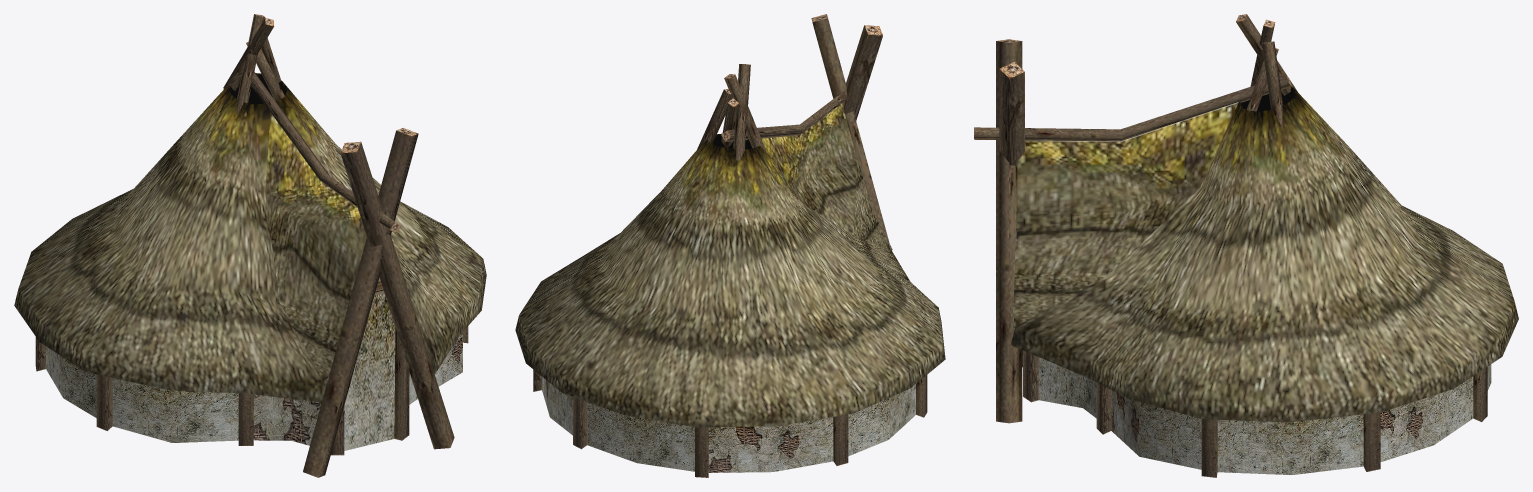
Rendered from celt_house_a.dae.
3 views of the same model, side by side, from view 1: azimuth 30°, elevation 25°; view 2: azimuth 150°, elevation 25°; view 3: azimuth 270°, elevation 25° (orthographic). The views are drawn at different scales.
Visible parts, largest first — view 1: house_2_celt; view 2: house_2_celt; view 3: house_2_celt.
Boxes of the visible parts, box(x1,y1,x2,y2) form: house_2_celt: box(14, 14, 486, 477); house_2_celt: box(515, 14, 945, 477); house_2_celt: box(974, 14, 1518, 477).
Size of the model in its own units: 10.01 by 11.02 by 8.43.
